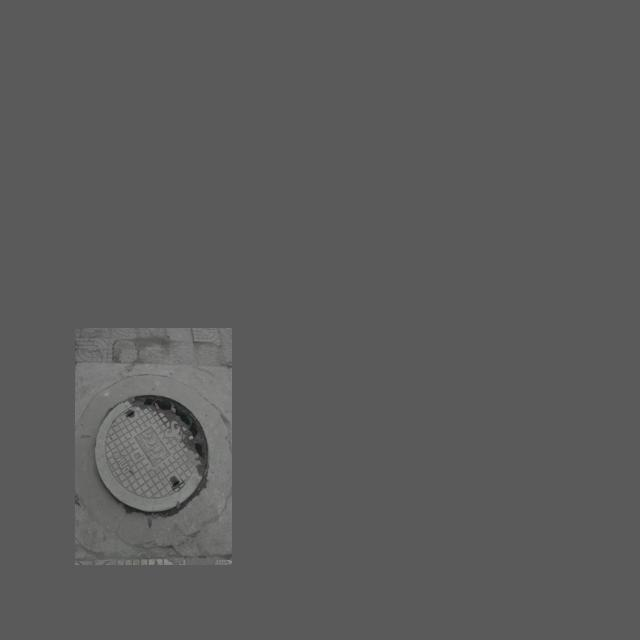broke: (84, 370, 228, 539)
